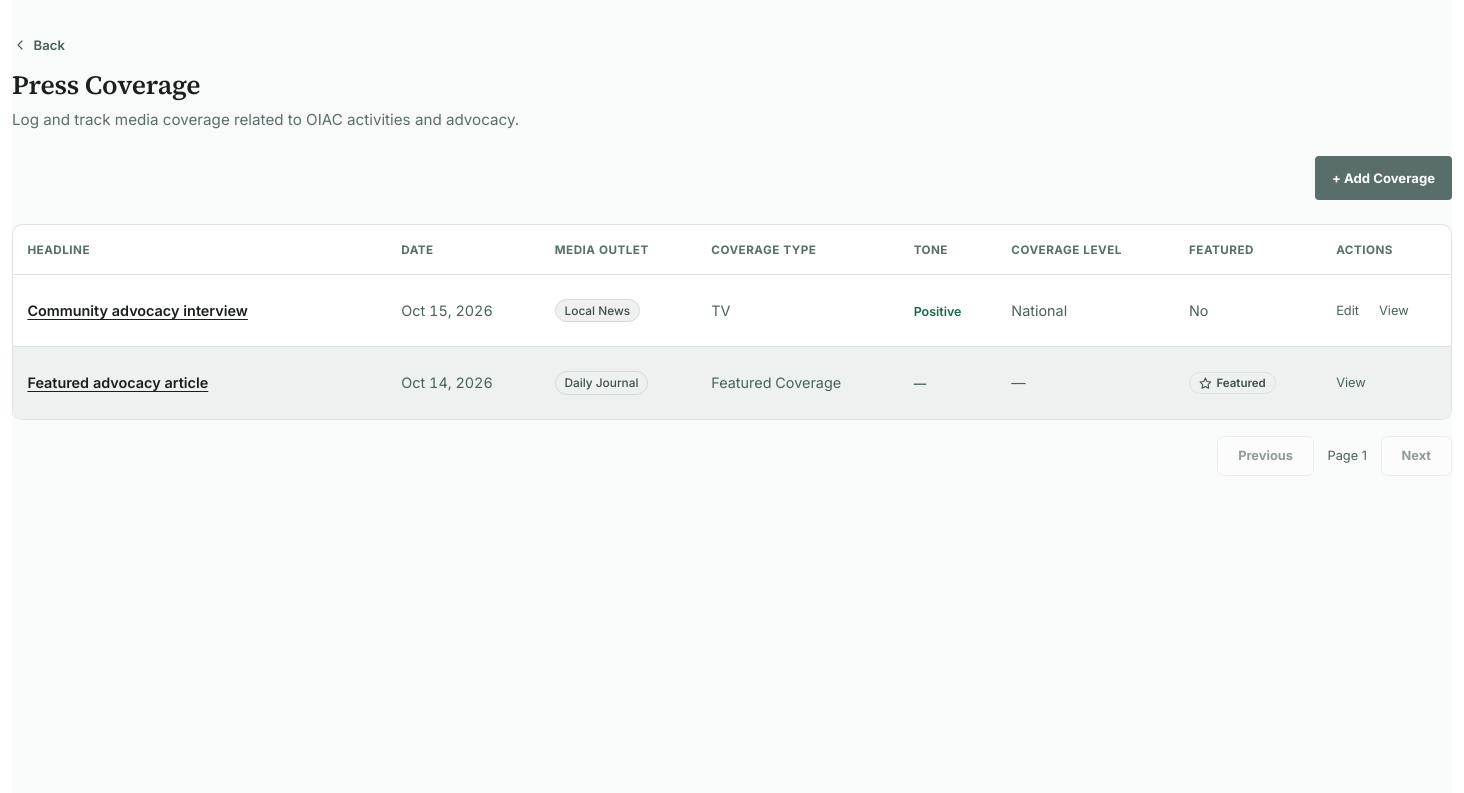
Test case: focuses the first invalid field and never creates an incomplete press record
Click the button "+ Add Coverage".
click(1384, 178)  # box [1315,156,1452,200]
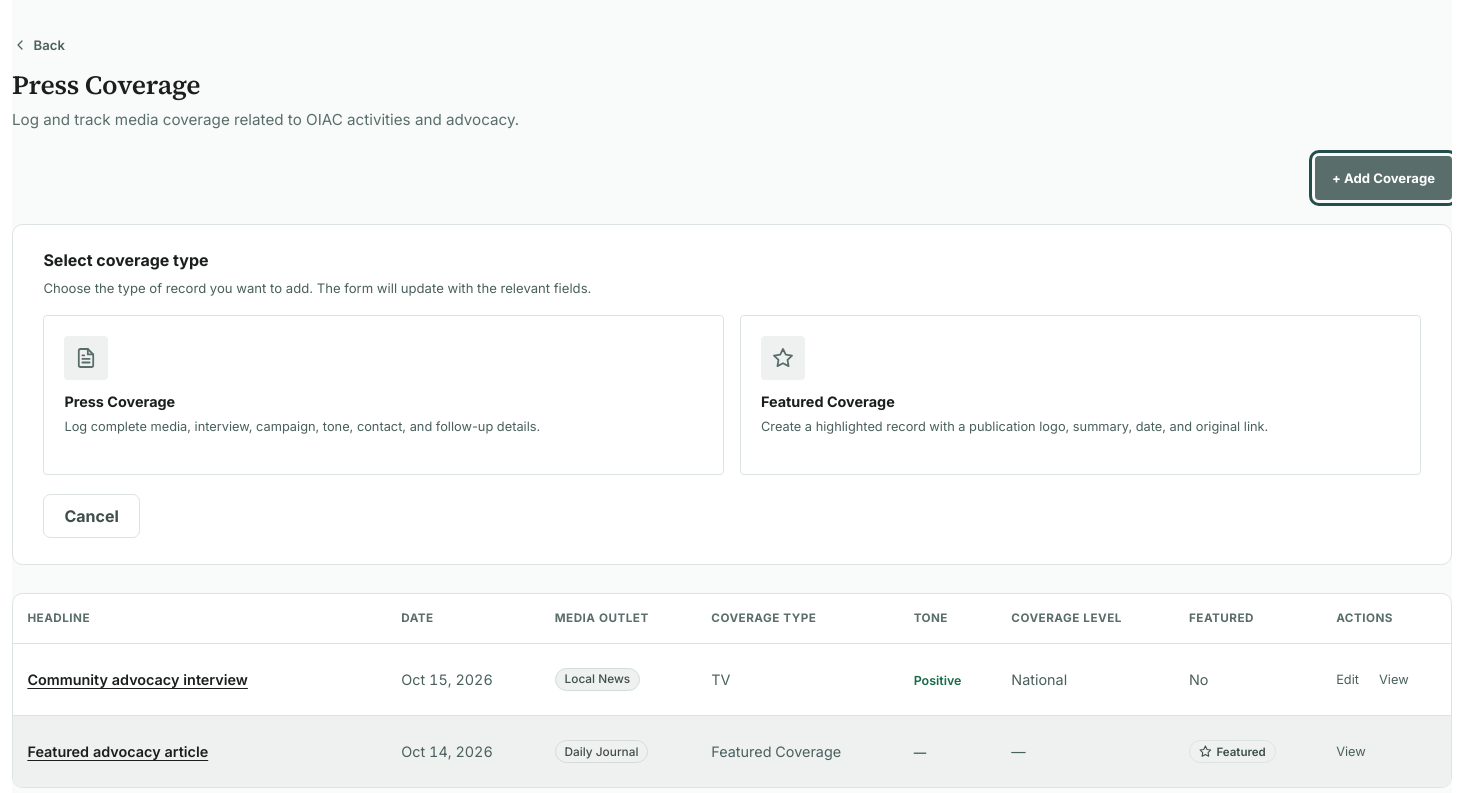
Click the button "Press Coverage Log complete media".
click(86, 358)  # box [43,315,724,475]
(page scrolled)
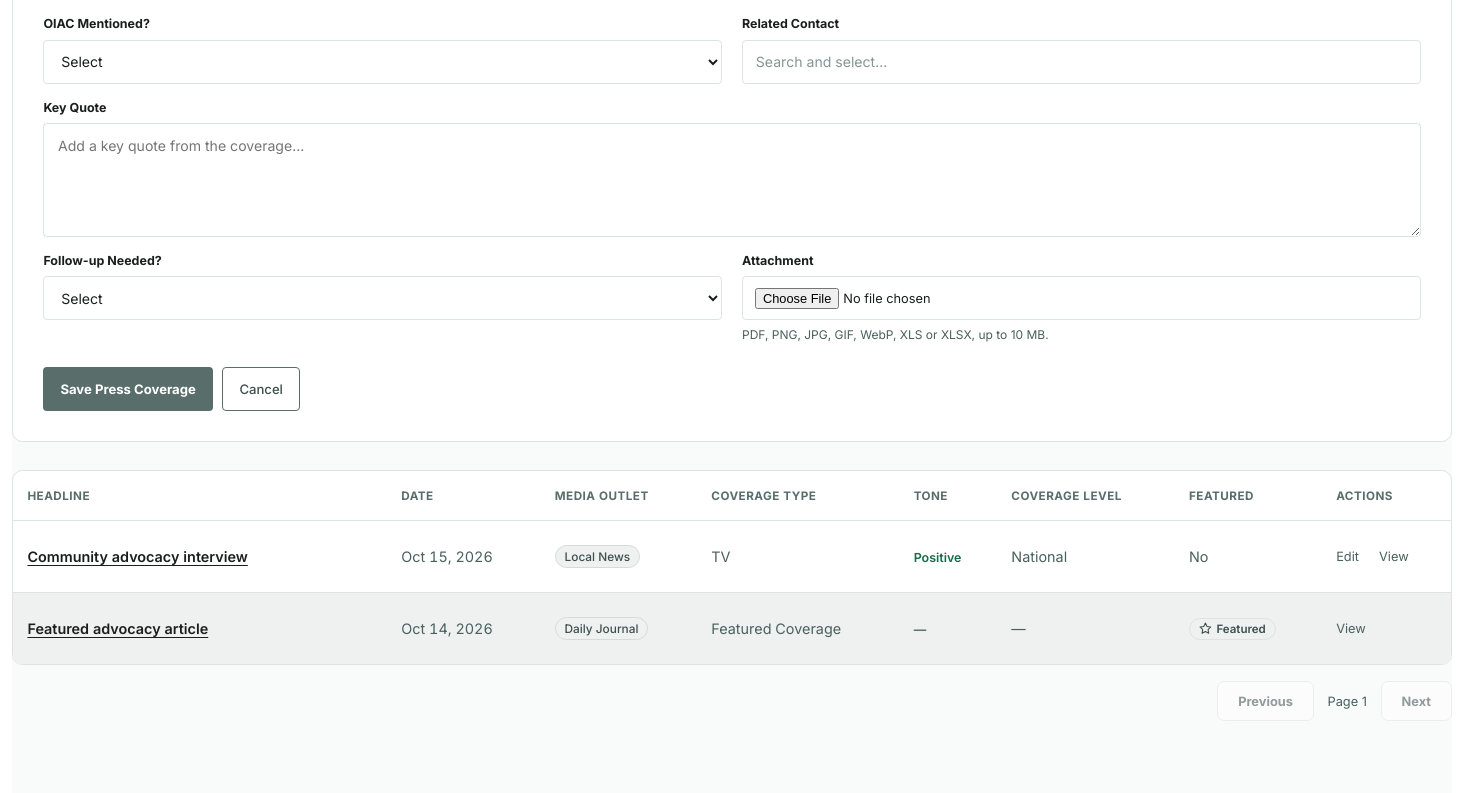
Click the button "Save Press Coverage".
click(128, 389)  # box [43,367,213,411]
(page scrolled)
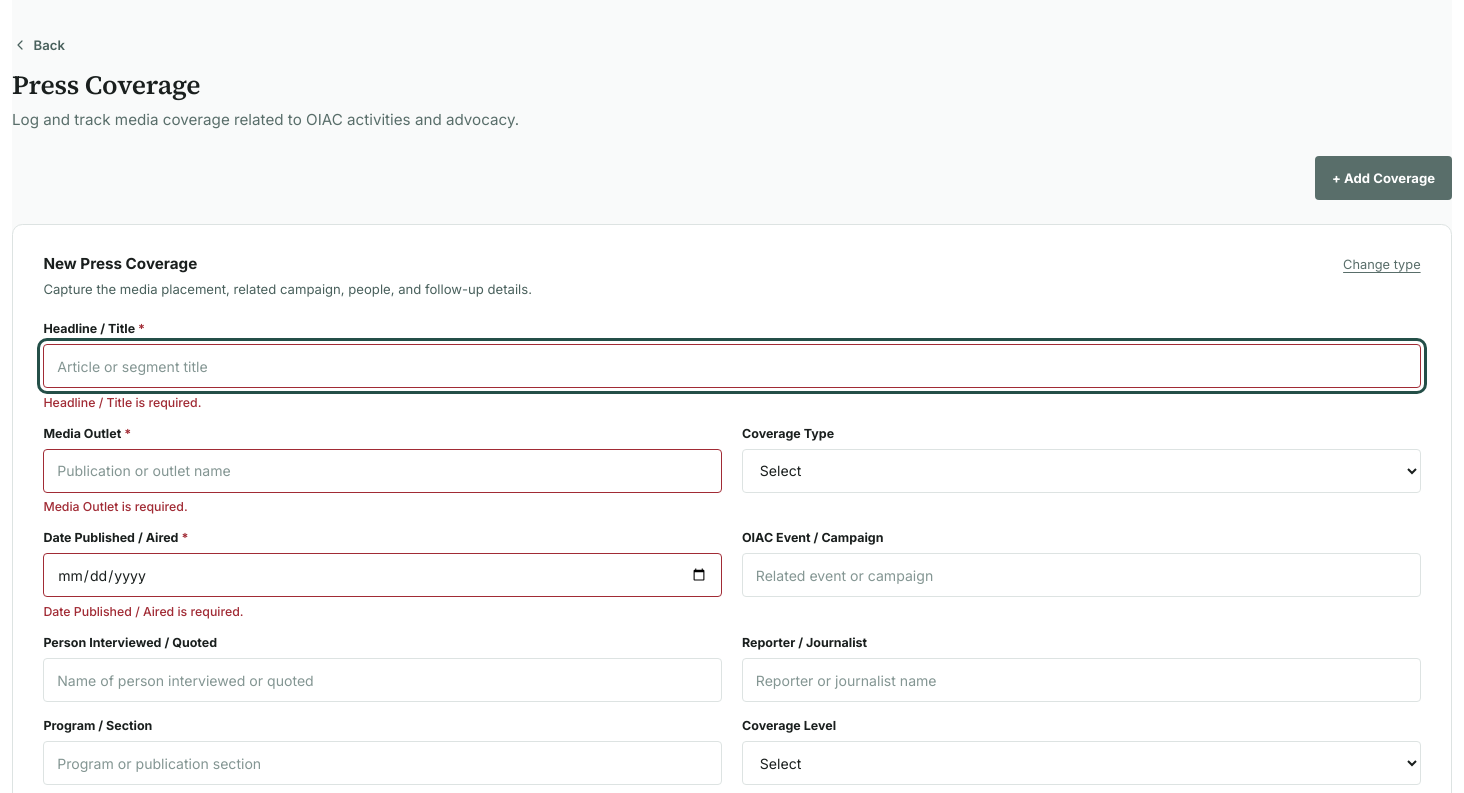
Now the text "Media Outlet is required." is shown, box [43,499,188,514]
